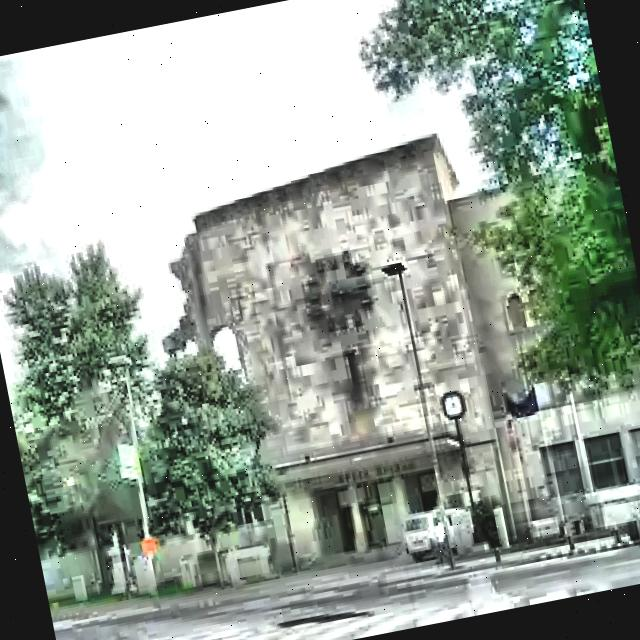old railway: (120, 96, 640, 622)
